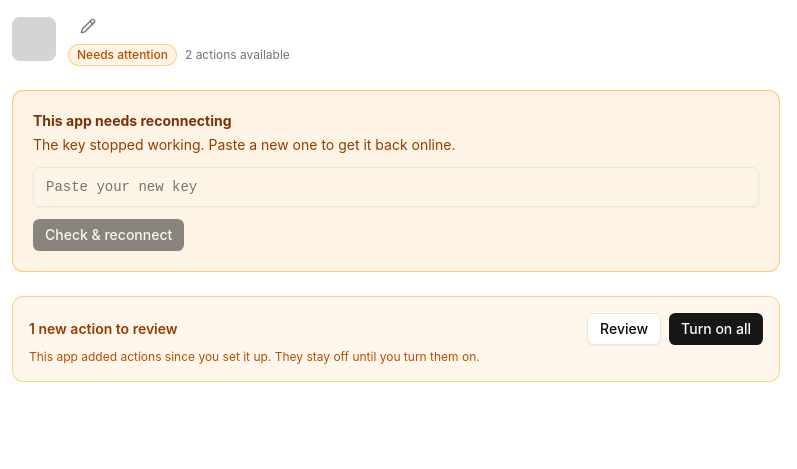
Test case: AppDetail › shows new quarantined actions on the review tab instead of an empty state
Click the button "Review": (624, 329) [587,313,661,345]
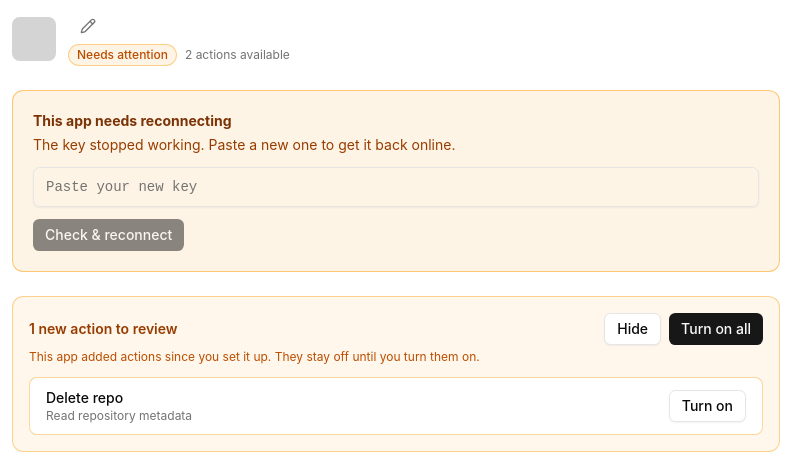
Check: the text "Delete repo" is shown, box [46,389,123,406]
